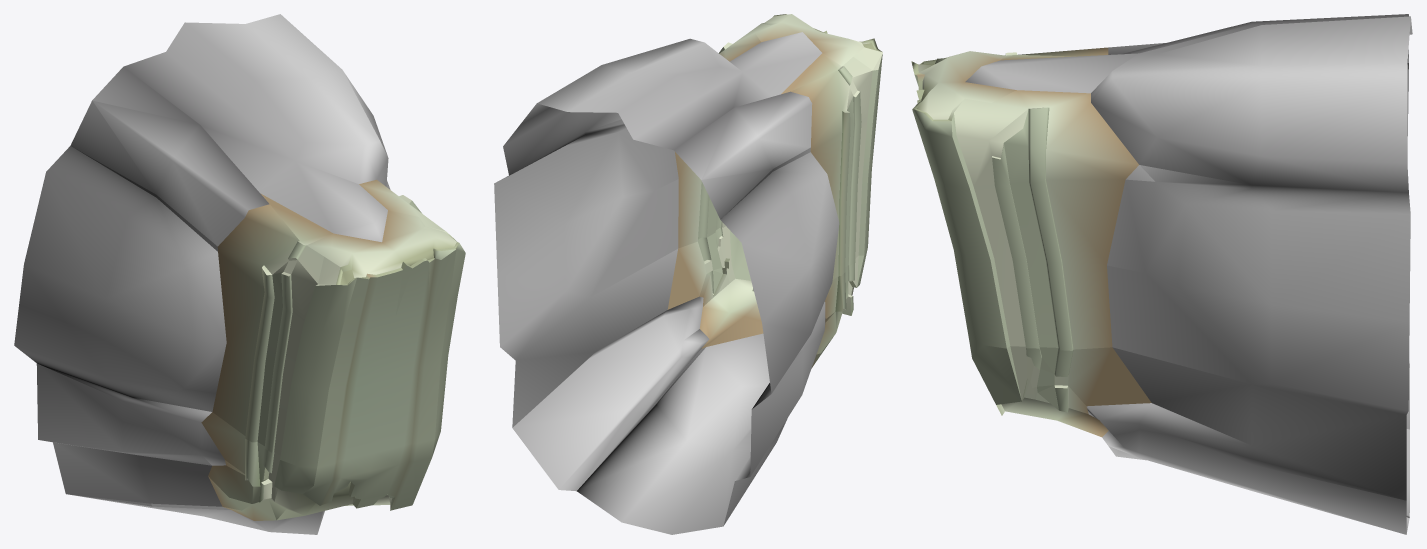
The model's file is Ramp_Volcano.glb.
The picture shows the model from 3 angles, left to right: view 1: azimuth 30°, elevation 25°; view 2: azimuth 150°, elevation 25°; view 3: azimuth 270°, elevation 25°; orthographic projection. The views are drawn at different scales.
Parts seen in each view (by area): view 1: MeshNode_0, MeshNode_1; view 2: MeshNode_0, MeshNode_1; view 3: MeshNode_0, MeshNode_1.
Part boxes in pixels (x1,y1,x2,y2): MeshNode_0: [14, 14, 465, 534]; MeshNode_1: [201, 179, 458, 520]; MeshNode_0: [494, 32, 882, 534]; MeshNode_1: [667, 14, 882, 368]; MeshNode_0: [912, 14, 1412, 534]; MeshNode_1: [911, 47, 1151, 437].
Bounding box in the file's own units: 35.53 × 50.41 × 45.66.
